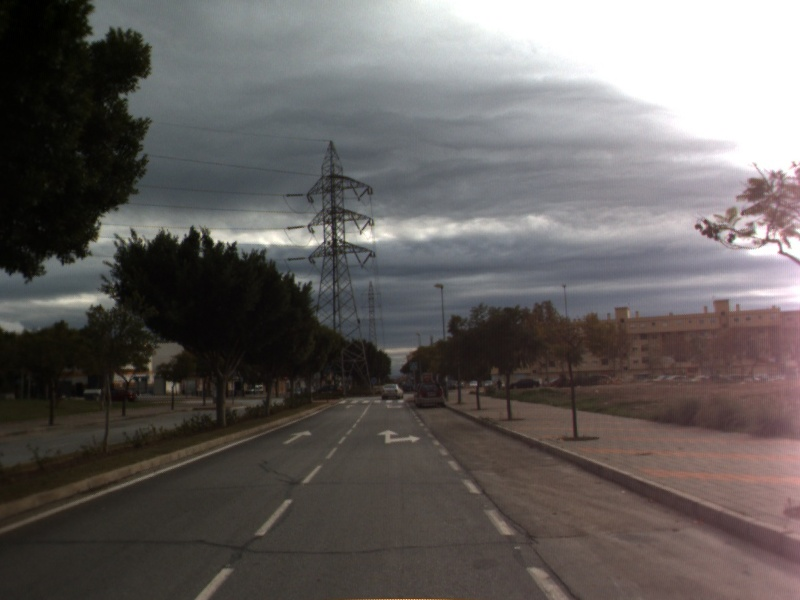STRAIGHT: (280, 427, 314, 446)
STRAIGHT_RIGHT: (375, 427, 423, 445)
